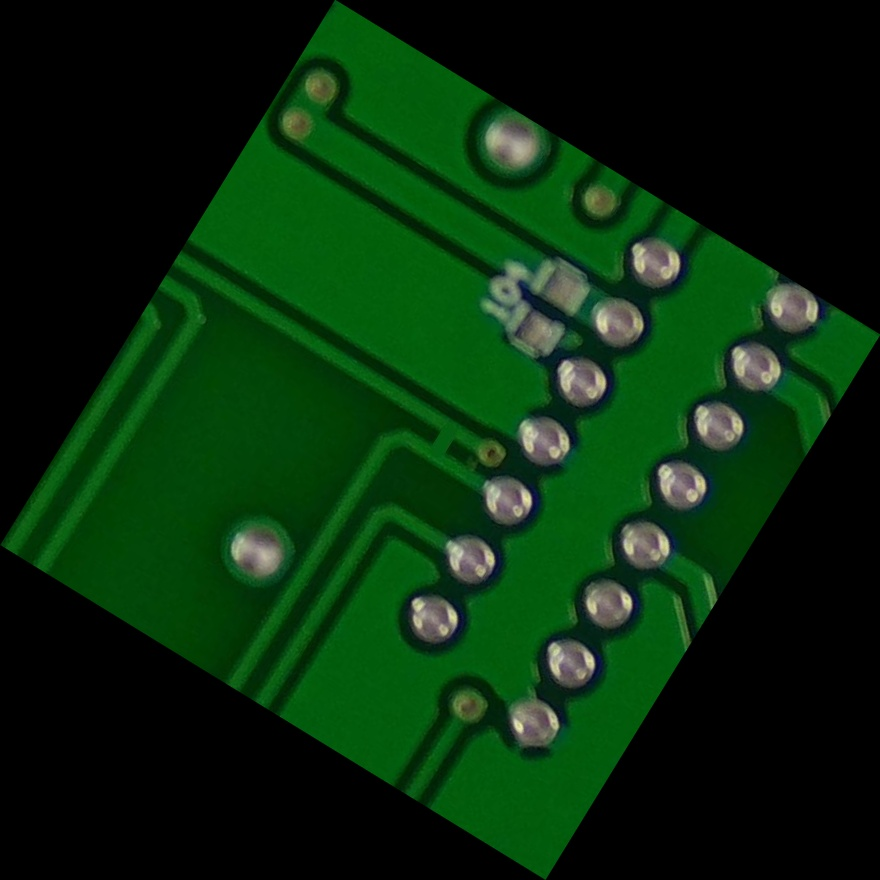short: (399, 398, 481, 482)
